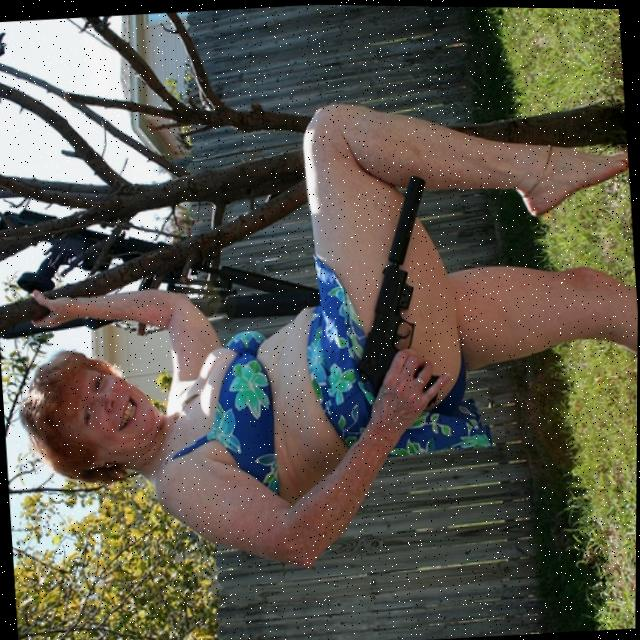pistol: (339, 172, 440, 401)
